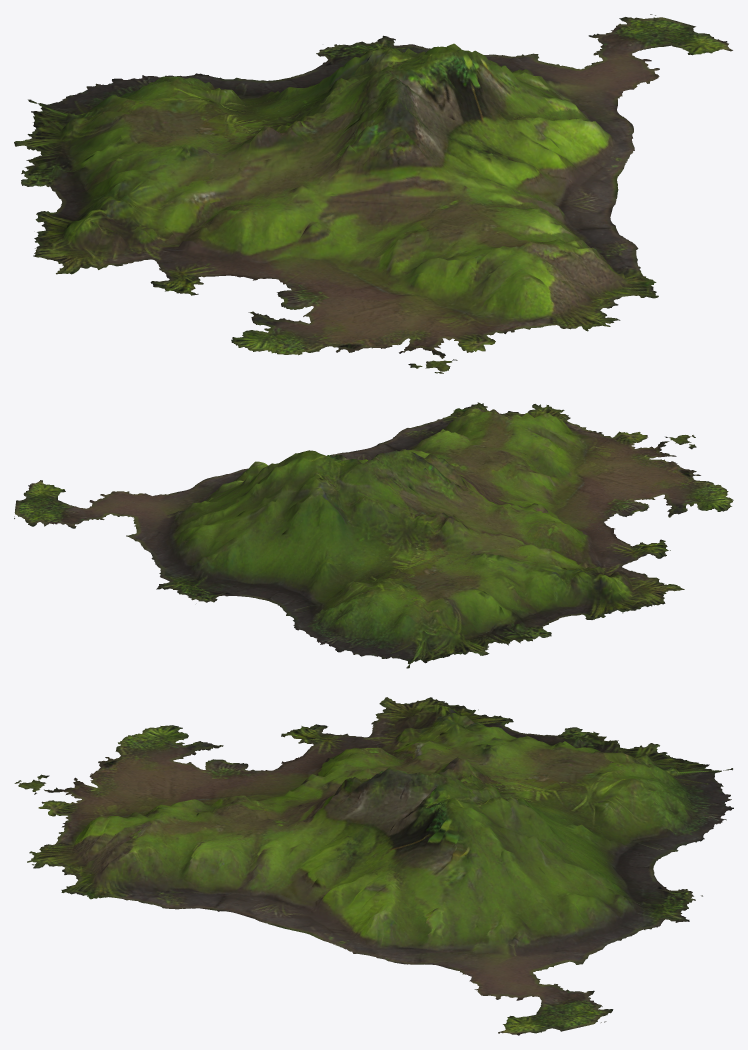
Rendered from terrain2.fbx.
3 renders of one model, top to bottom at view 1: azimuth 30°, elevation 25°; view 2: azimuth 150°, elevation 25°; view 3: azimuth 270°, elevation 25°, orthographic. The views are drawn at different scales.
Parts seen in each view (by area): view 1: Mesh_0; view 2: Mesh_0; view 3: Mesh_0.
Part boxes in pixels (left/top/right/bottom): Mesh_0: left=14, top=14, right=732, bottom=373; Mesh_0: left=14, top=402, right=733, bottom=668; Mesh_0: left=14, top=697, right=733, bottom=1035.
Bounding box in the file's own units: 97.09 × 12.08 × 87.26.
Materials: 1 (1 with a texture image).
